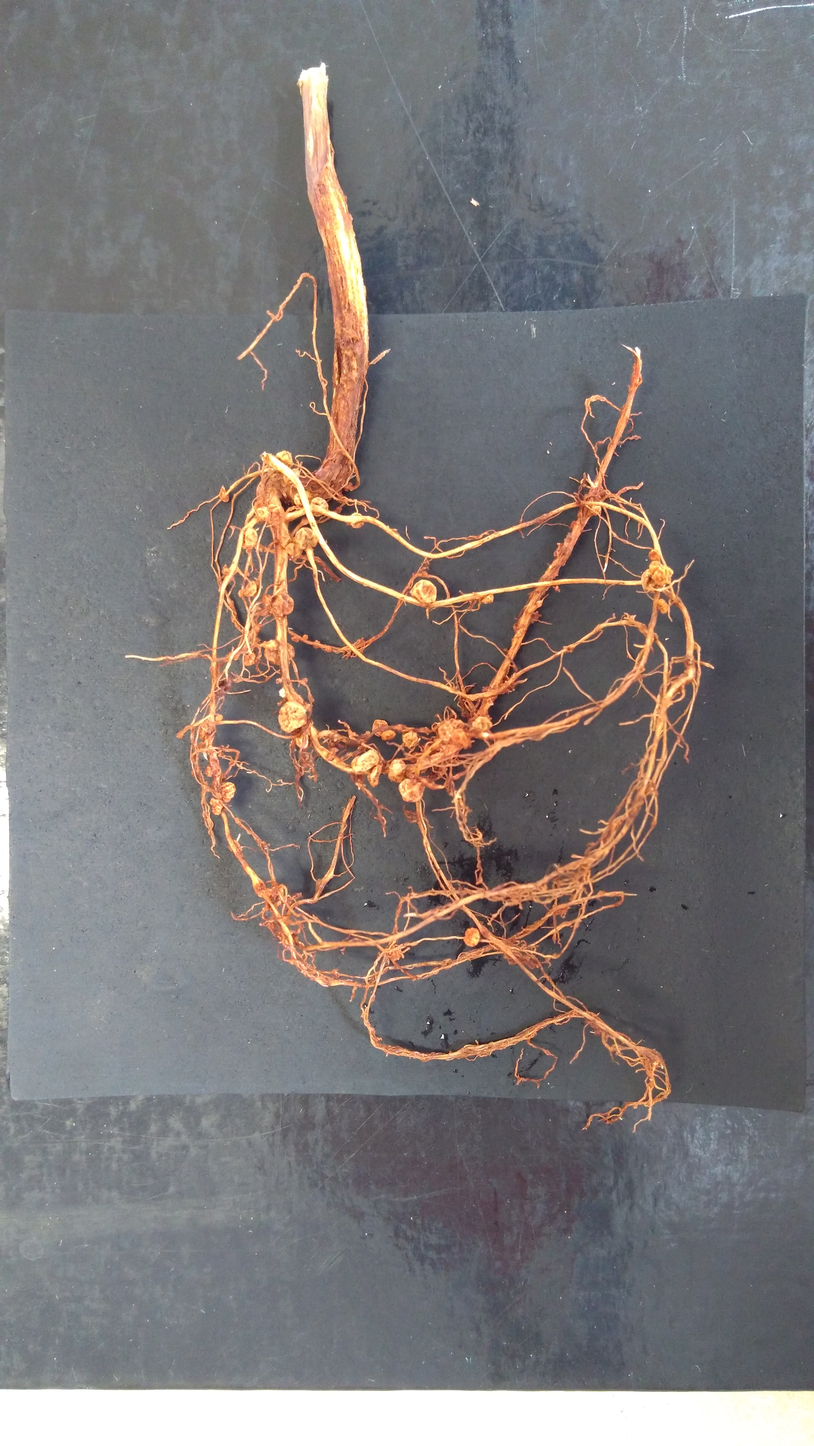nodule: (641, 561, 674, 594), (438, 718, 472, 750), (278, 701, 308, 734), (264, 639, 295, 665), (398, 778, 425, 803), (351, 750, 379, 774), (269, 591, 294, 616), (410, 579, 436, 603), (204, 750, 222, 777), (388, 759, 407, 784), (295, 527, 317, 548), (265, 887, 284, 910), (310, 497, 328, 517), (241, 527, 257, 549), (367, 764, 381, 788), (221, 781, 236, 803), (427, 767, 449, 782), (276, 451, 294, 469), (463, 928, 480, 947), (215, 678, 232, 697), (472, 716, 493, 731), (403, 730, 419, 749), (199, 723, 217, 739), (294, 490, 311, 506), (372, 720, 388, 737), (283, 469, 300, 484), (350, 512, 365, 529), (209, 798, 224, 815), (285, 543, 303, 556), (390, 944, 403, 962), (228, 839, 243, 853), (244, 581, 257, 597), (257, 507, 271, 521), (269, 504, 282, 519), (295, 734, 308, 749), (657, 598, 669, 614), (277, 884, 287, 903), (282, 931, 295, 945), (444, 744, 459, 756), (327, 747, 339, 761), (219, 486, 229, 502), (280, 535, 292, 548), (648, 549, 661, 561), (244, 652, 255, 666), (381, 730, 396, 740), (262, 594, 273, 606), (481, 593, 493, 604), (343, 482, 354, 493), (590, 505, 601, 515), (222, 564, 230, 576), (238, 584, 245, 597), (305, 703, 314, 712), (279, 688, 286, 698), (313, 640, 320, 649), (291, 636, 299, 643), (215, 714, 223, 721), (536, 600, 542, 608), (325, 646, 332, 652), (275, 678, 282, 684), (302, 677, 308, 684), (336, 506, 342, 513), (553, 550, 558, 557), (303, 634, 308, 640)
